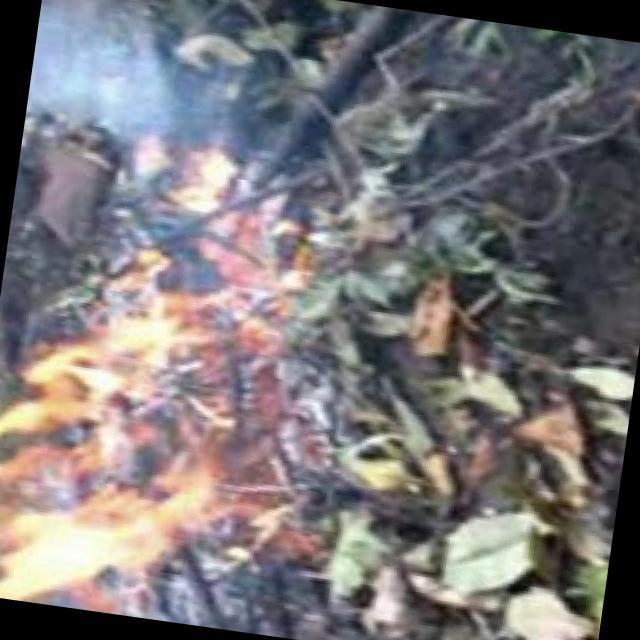Fire: (1, 236, 300, 634)
